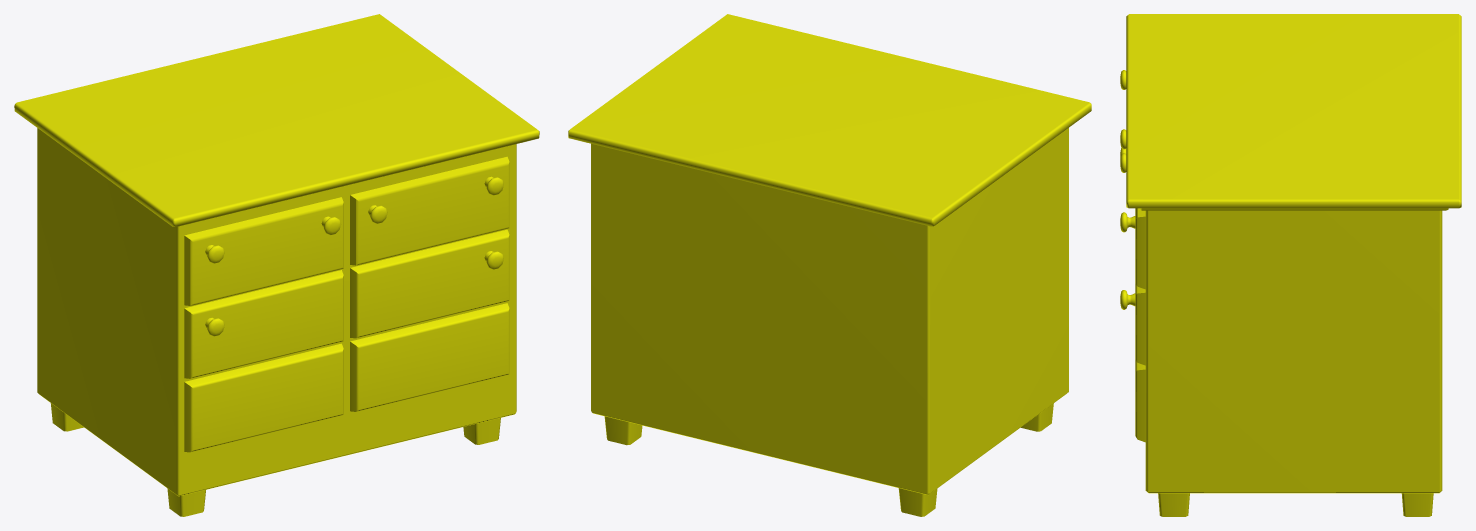
The model's file is SM_smCabinet.fbx.
The picture shows the model from 3 angles, left to right: view 1: azimuth 30°, elevation 25°; view 2: azimuth 150°, elevation 25°; view 3: azimuth 270°, elevation 25°; orthographic projection. The views are drawn at different scales.
Visible parts, largest first — view 1: SM_smCabinet; view 2: SM_smCabinet; view 3: SM_smCabinet.
Boxes of the visible parts, x1,y1,x2,y2 form: SM_smCabinet: (14,14,539,516); SM_smCabinet: (568,14,1091,516); SM_smCabinet: (1120,14,1461,516).
Size of the model in its own units: 107 by 87.62 by 82.31.
